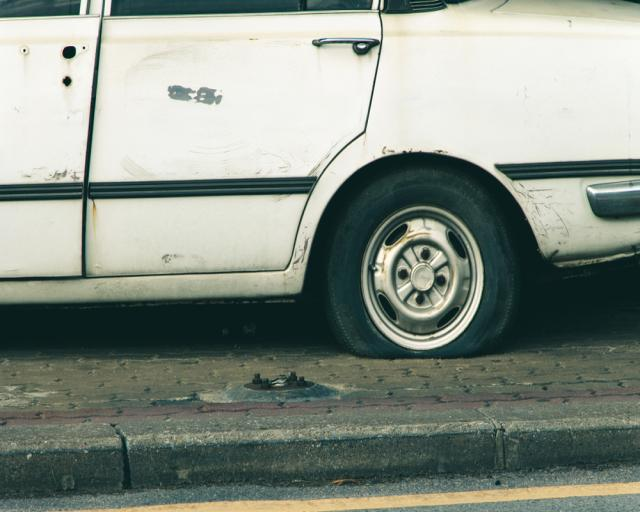scratch: (164, 77, 233, 109)
tire flat: (326, 165, 517, 359)
